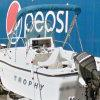Boat: (2, 26, 99, 100)
